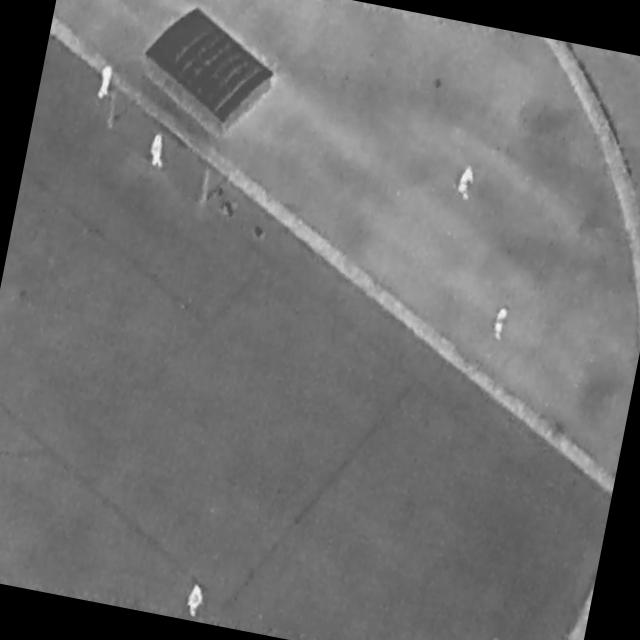person: (144, 129, 174, 175), (454, 160, 481, 204), (95, 60, 119, 102), (183, 580, 208, 620), (491, 304, 512, 343)
